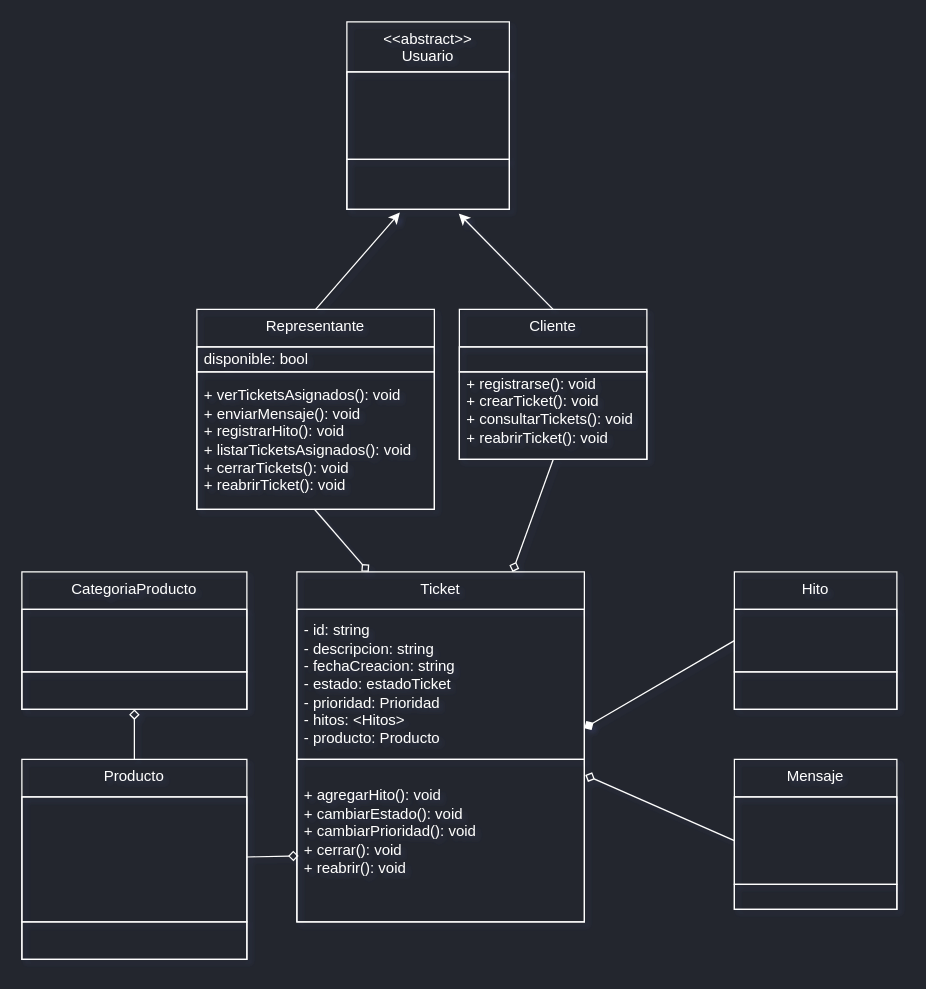
Image size: 926x989. Some labels were removed from this diagram. Here are the shapes that lost their labels. From the top down, the centre of each, then its label:
the point at 427,115: - id: string - nombre: string - mail: string - psw: string
the point at 427,183: + iniciarSesion(): bool + cerrarSesion(): bool
the point at 134,640: - id: string - nombre: string - productos: <Producto>
the point at 815,640: - id: string - fecha: string - descripcion: string
the point at 134,690: + asignarProducto(): void
the point at 134,859: - nombre: string - marca: string - modelo: string - codigo: string
the point at 815,840: - id: string - fecha: string - remitente: usuario - contenido: string
